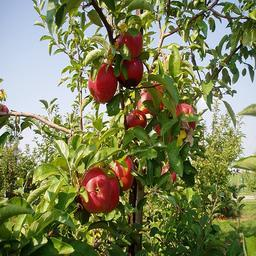apple: (76, 167, 118, 211), (87, 61, 117, 104), (101, 157, 133, 191), (115, 30, 142, 59), (117, 59, 144, 87), (137, 92, 162, 114), (125, 109, 146, 129), (175, 102, 194, 115)
